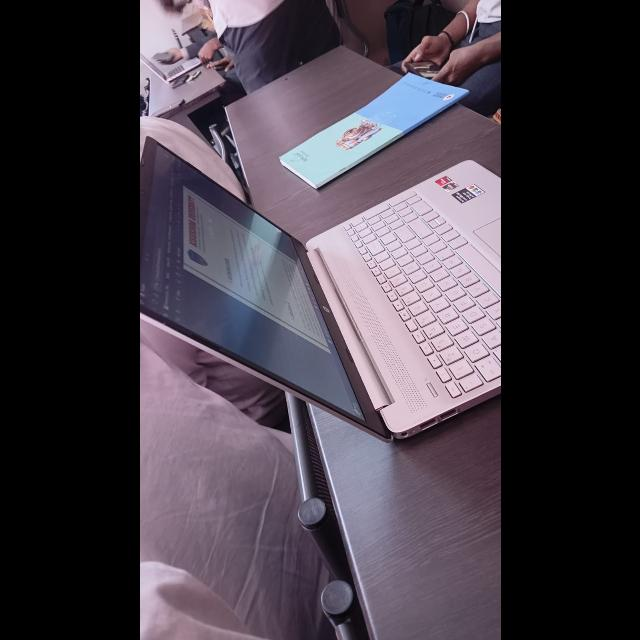laptop: (145, 130, 500, 442)
